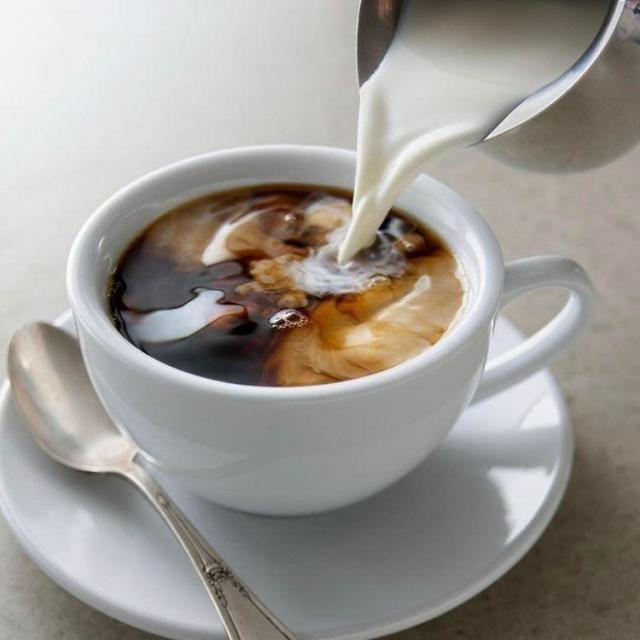cup-handle: (64, 138, 597, 522)
